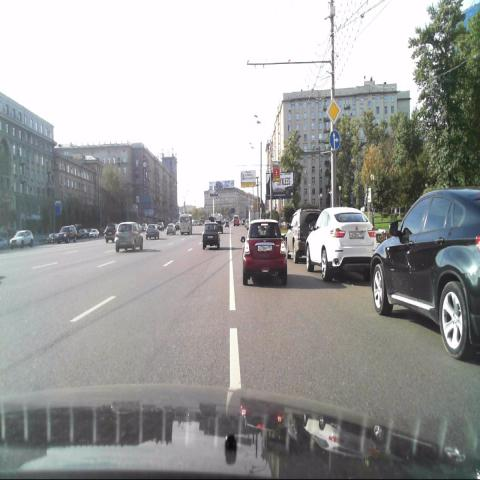4_1_4: (329, 127, 342, 151)
